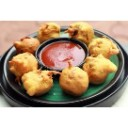bonda: (22, 69, 52, 96), (86, 55, 114, 83), (61, 67, 87, 96), (90, 36, 120, 60), (10, 52, 37, 75), (68, 21, 94, 42), (38, 22, 61, 41)
